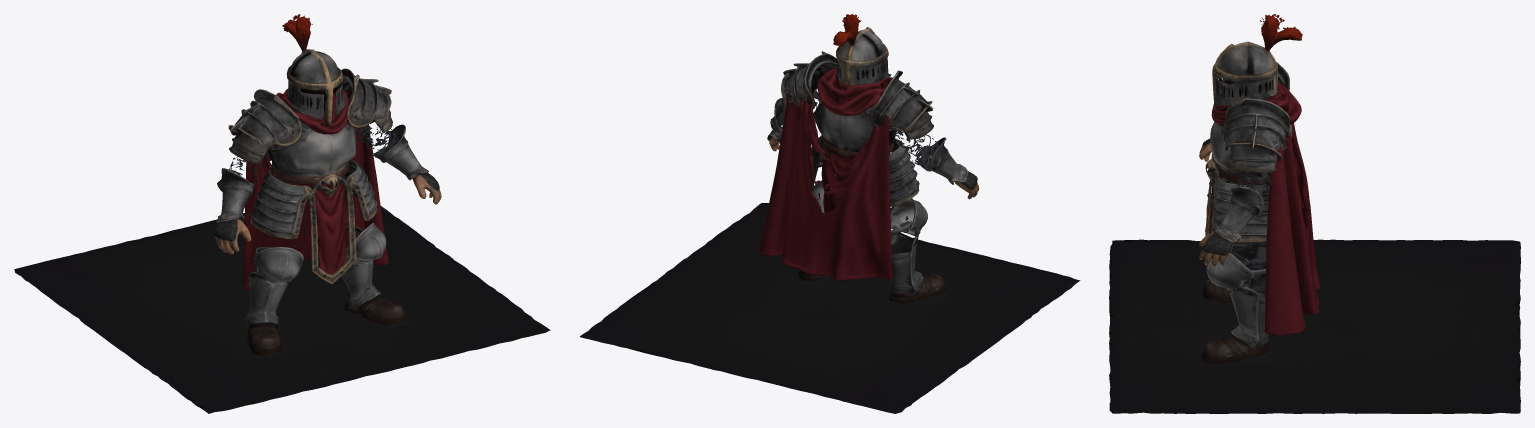
File: brick_t1.glb
3 views of the same model, side by side, from view 1: azimuth 30°, elevation 25°; view 2: azimuth 150°, elevation 25°; view 3: azimuth 270°, elevation 25° (orthographic). The views are drawn at different scales.
Parts seen in each view (by area): view 1: geometry_0; view 2: geometry_0; view 3: geometry_0.
Part boxes in pixels (x1=…): geometry_0: x1=14, y1=14, x2=550, y2=413; geometry_0: x1=580, y1=14, x2=1080, y2=413; geometry_0: x1=1109, y1=14, x2=1520, y2=413.
Size of the model in its own units: 1 by 0.8353 by 1.
Materials: 1 (1 with a texture image).
